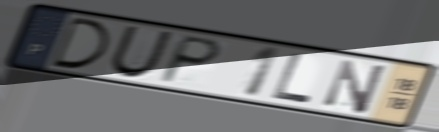1: (240, 45, 282, 98)
D: (49, 15, 112, 71)
L: (269, 51, 313, 106)
N: (321, 58, 390, 117)
P: (155, 33, 225, 85)
U: (108, 24, 176, 79)
